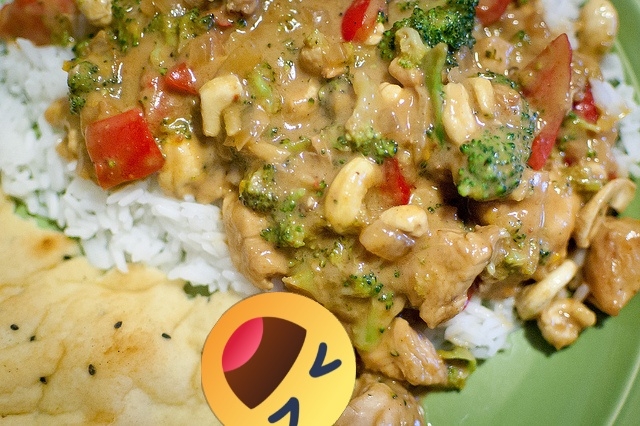haha: (201, 292, 356, 426)
